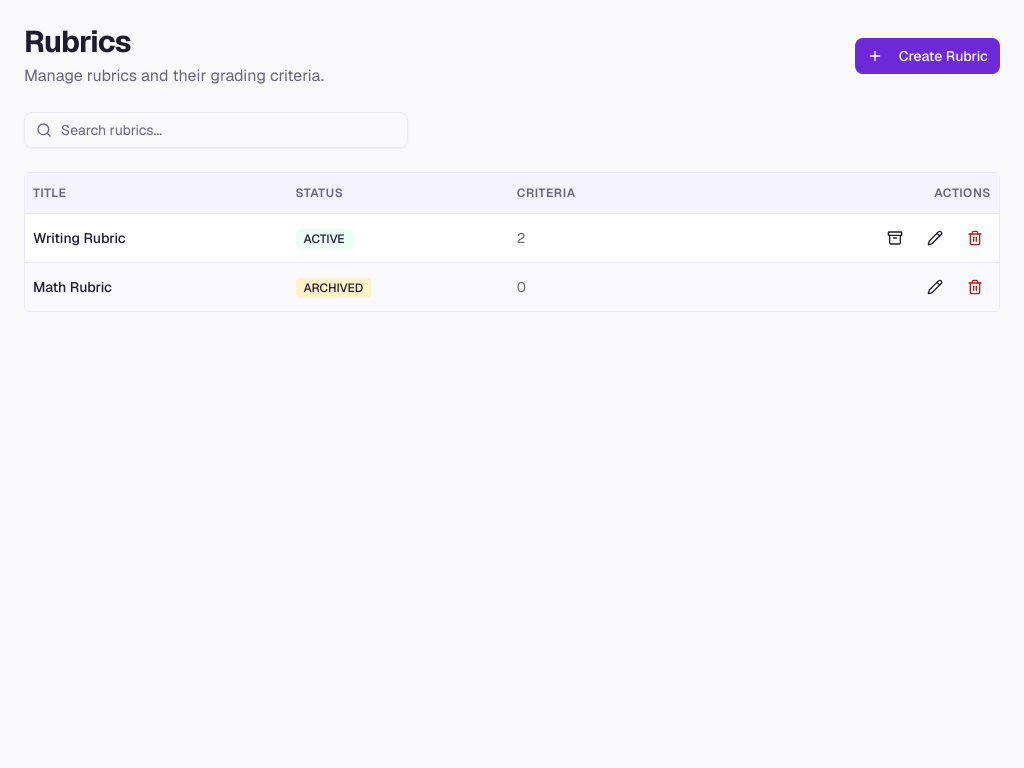
Scenario: RubricListView › opens delete confirmation when delete button is clicked
The image size is (1024, 768).
Expected: the text "Writing Rubric" is shown, [25,213,288,262]
Click the 2nd button "Delete" at (975, 238), box [959,222,991,254]
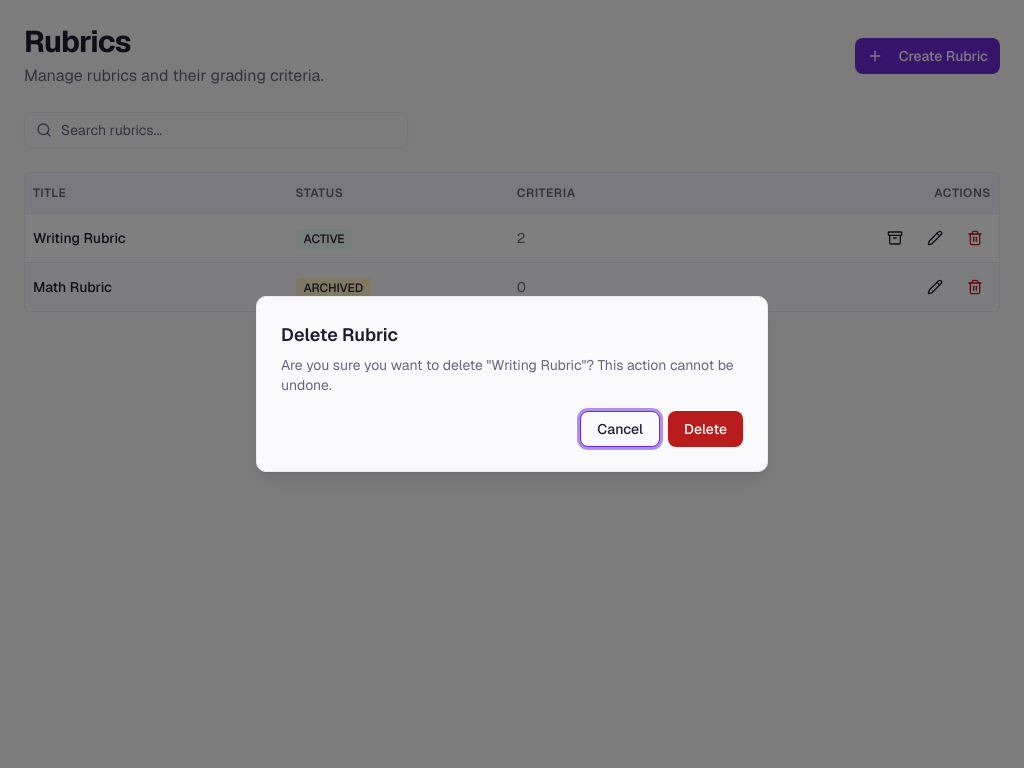
Result: the heading "Delete Rubric" is shown at [281,321,398,349]
Result: the text "Are you sure you want to delete" is shown at [281,356,491,374]
